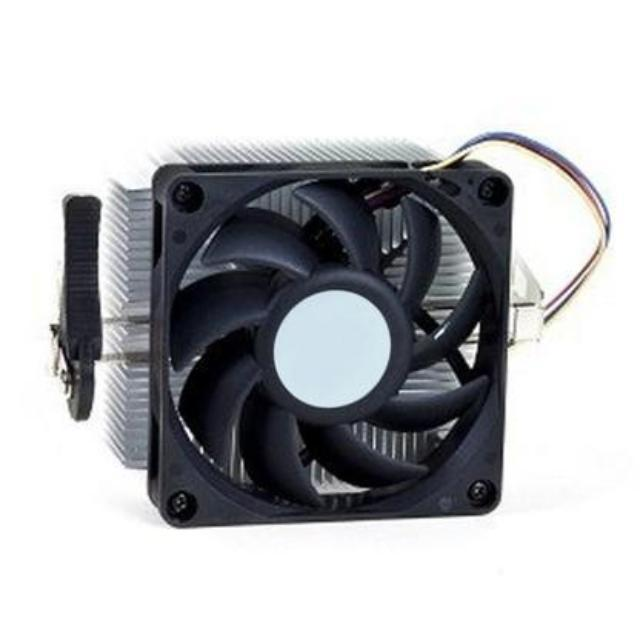CPU_Fan: (62, 130, 513, 532)
